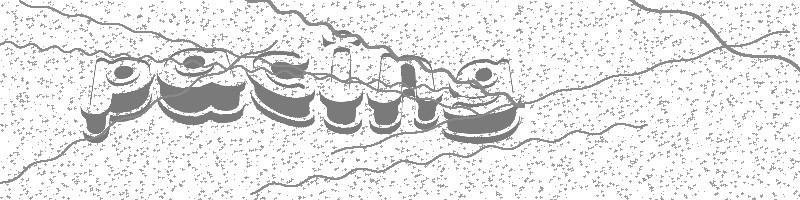a: (156, 45, 246, 126)
c: (247, 49, 318, 129)
g: (442, 57, 522, 145)
i: (318, 28, 365, 135)
n: (366, 52, 440, 134)
p: (78, 56, 154, 145)
